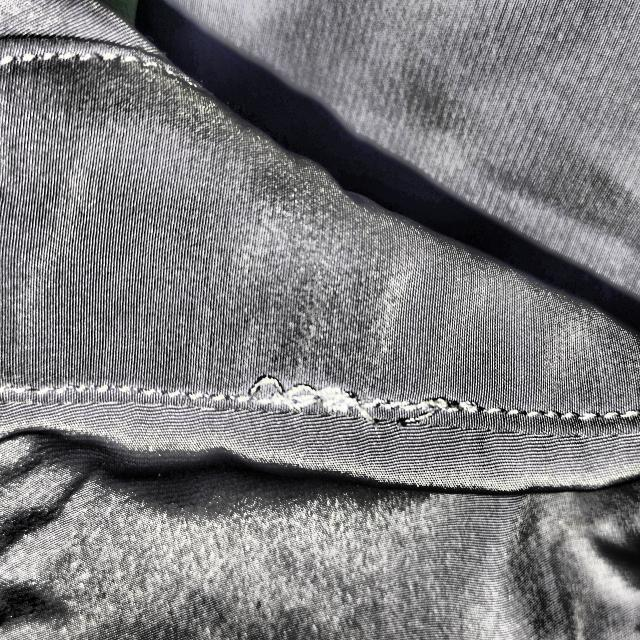gray stitch: (230, 349, 481, 457)
